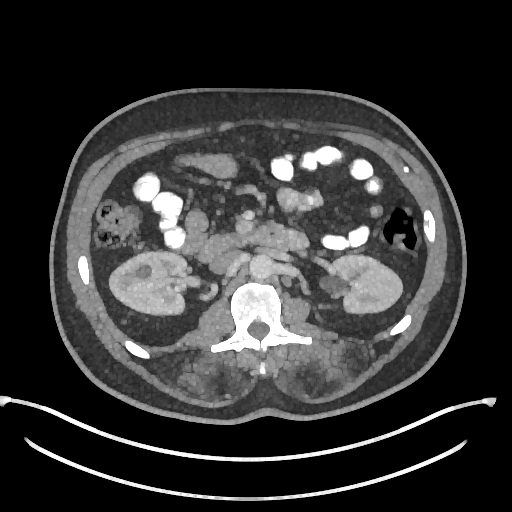Lesion: (132, 263, 158, 282)
